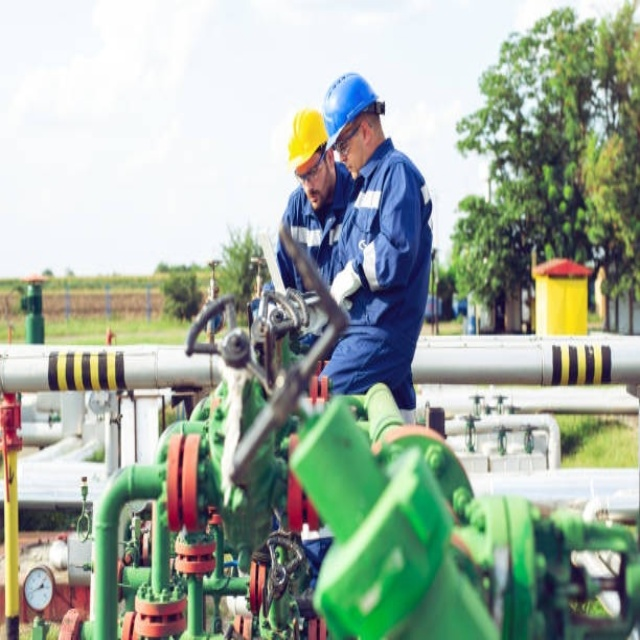Gafas: (332, 118, 367, 159), (296, 146, 328, 182)
Sin_mascara: (342, 158, 358, 182), (305, 188, 319, 210)
